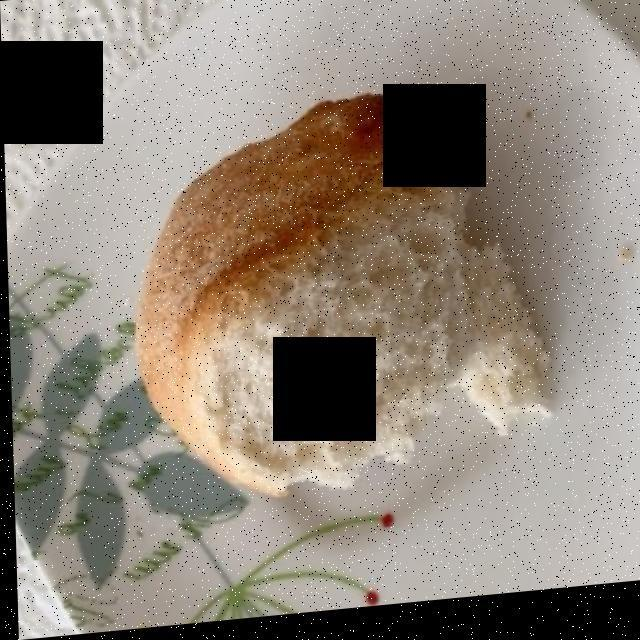bread: (142, 101, 543, 497)
